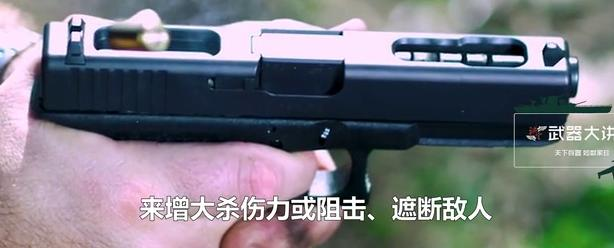gun: (1, 0, 614, 248)
